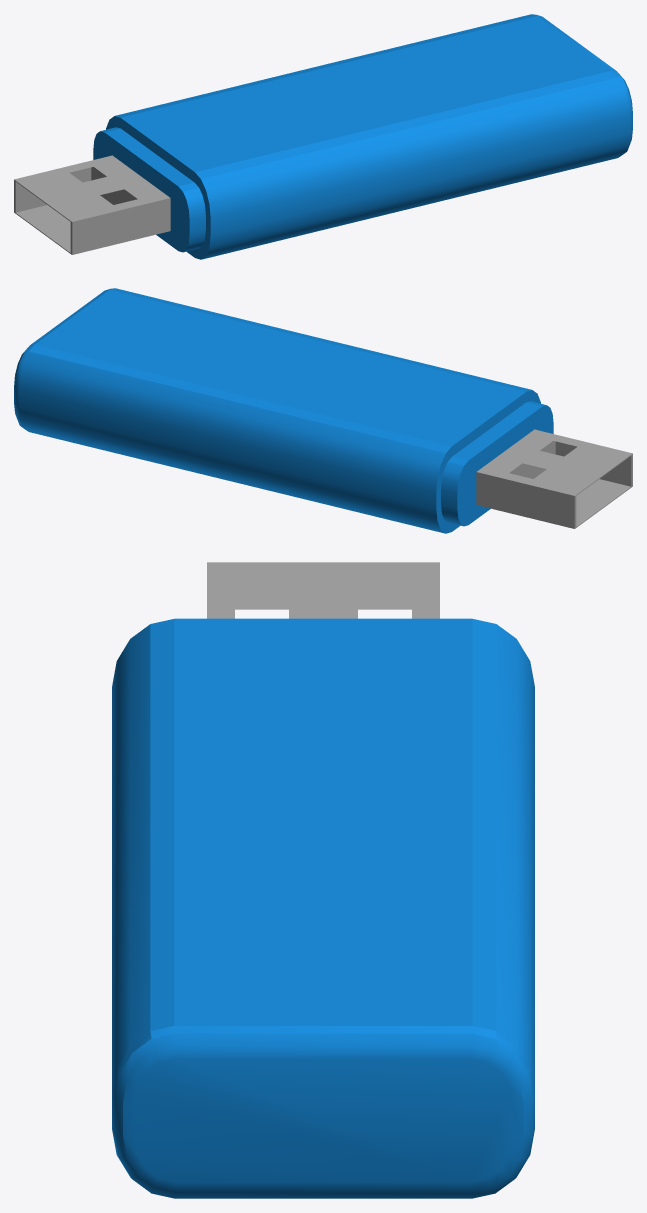
The model's file is pendrive.fbx.
The picture shows the model from 3 angles, top to bottom: view 1: azimuth 30°, elevation 25°; view 2: azimuth 150°, elevation 25°; view 3: azimuth 270°, elevation 25°; orthographic projection. The views are drawn at different scales.
Visible parts, largest first — view 1: Cube.001; view 2: Cube.001; view 3: Cube.001.
Boxes of the visible parts, x1,y1,x2,y2 form: Cube.001: (14,14,632,259); Cube.001: (14,288,632,533); Cube.001: (112,562,534,1198).
Size of the model in its own units: 250 by 37.78 by 84.5.
